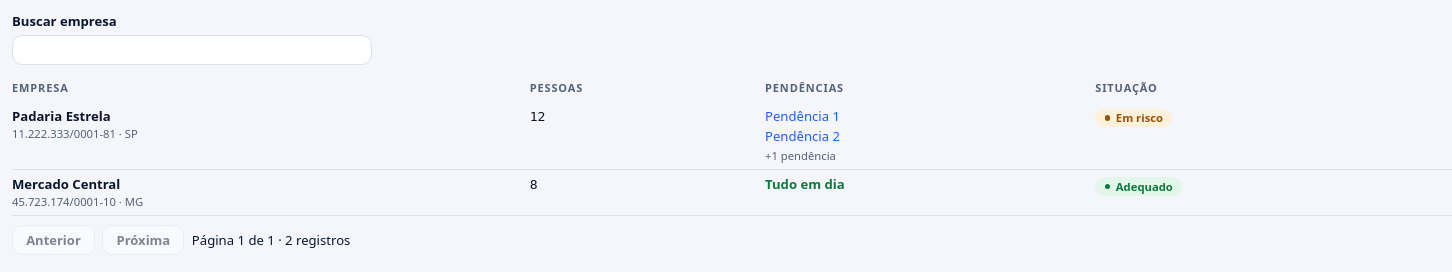
Test case: carteira › a busca acha pelo CNPJ sem pontuação e pela UF
In the search field labelled "Buscar empresa": (192, 50) x1=12 y1=34 x2=372 y2=64, type "45723174"
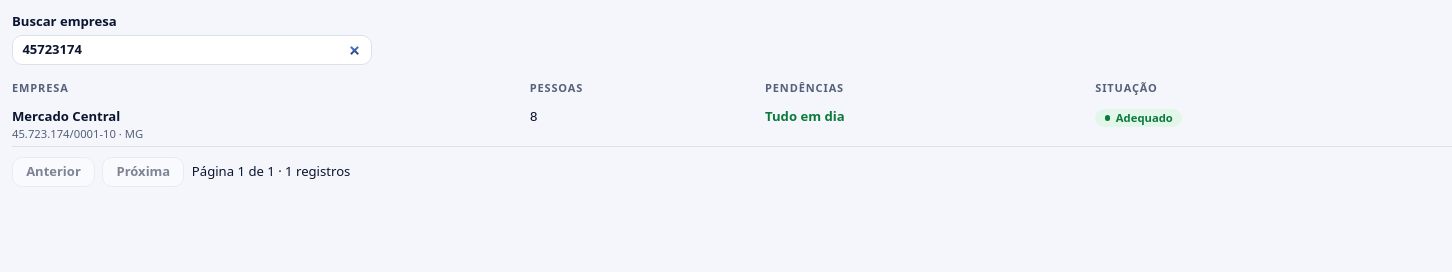
Check: the link "Padaria Estrela" is gone
Replace the text in the search field labelled "Buscar empresa" with "SP": (192, 50) x1=12 y1=34 x2=372 y2=64
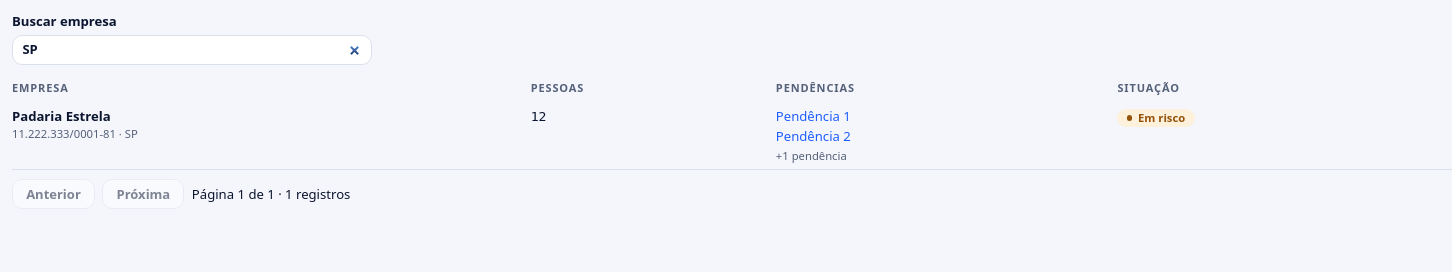
Check: the link "Padaria Estrela" is shown, box x1=12 y1=107 x2=110 y2=125
